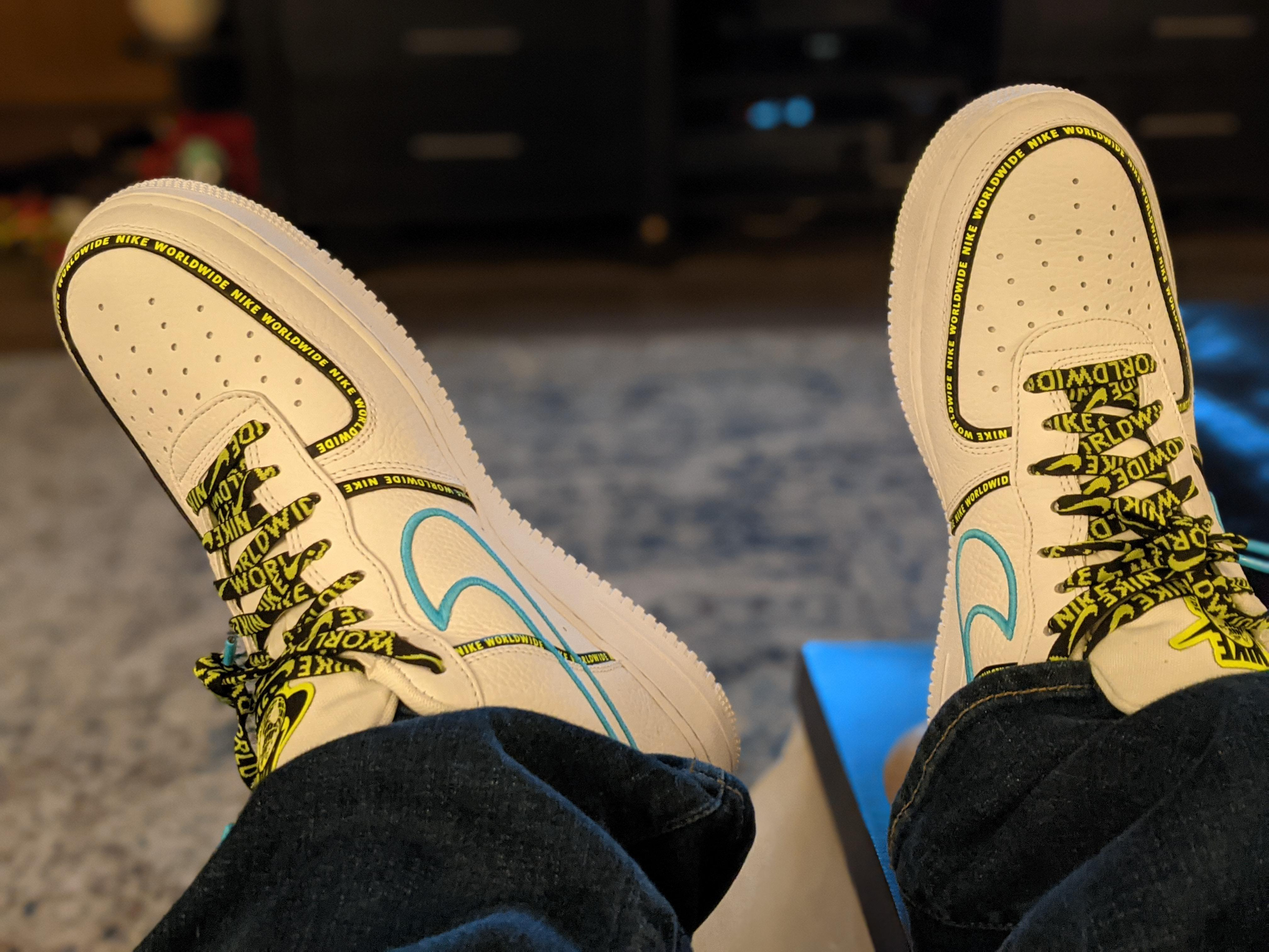sneaker: (0, 129, 771, 952), (857, 38, 1269, 863)
